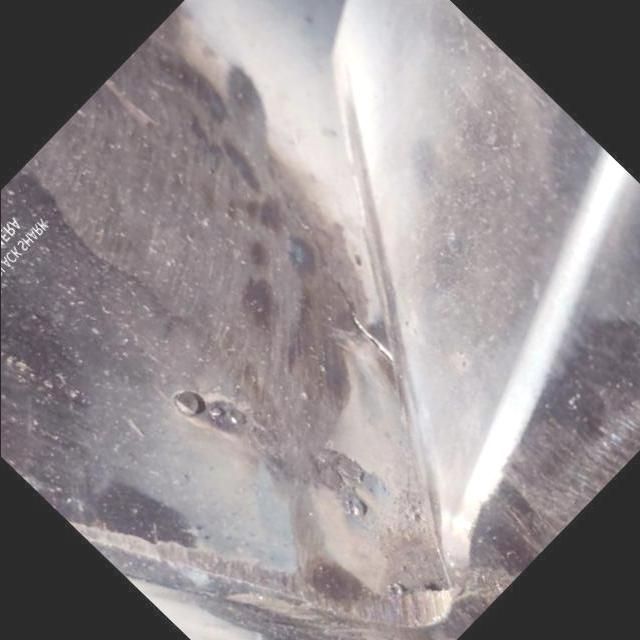defect: (279, 194, 401, 366)
